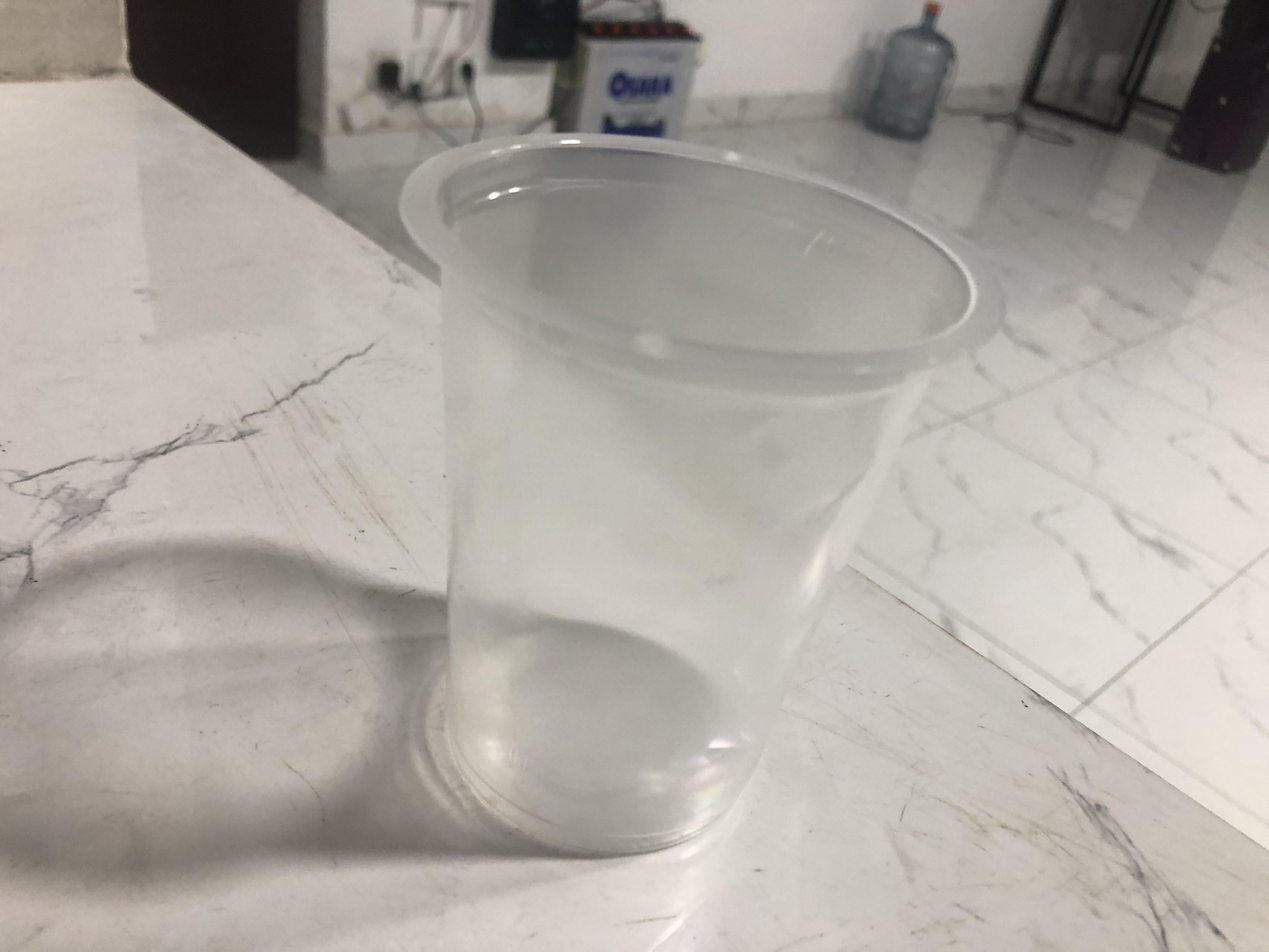cup-disposable: (394, 130, 1010, 859)
